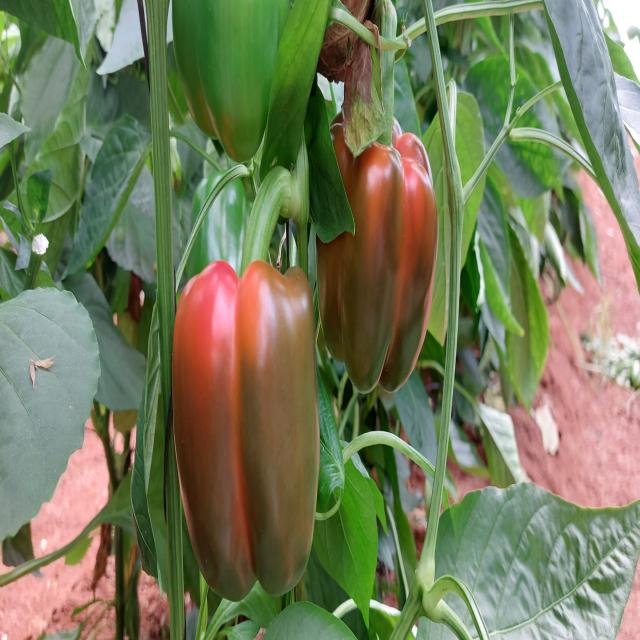BrownishRed--Can-be-Harvested: (172, 261, 324, 611), (325, 118, 447, 396)
Green--Not-ready-to-harvest: (174, 0, 328, 158)
